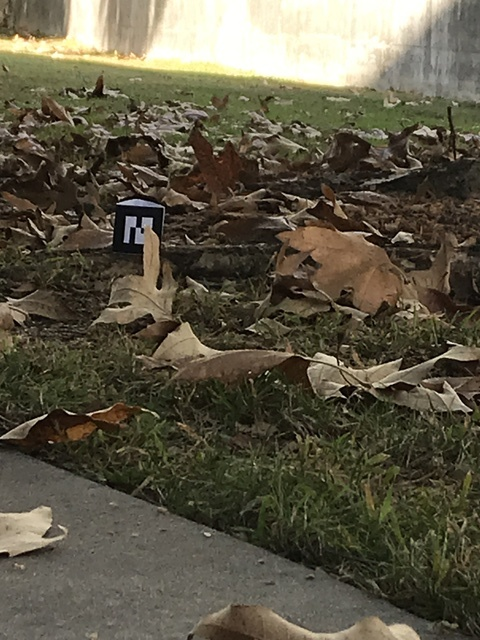ARTag: (112, 198, 165, 255)
